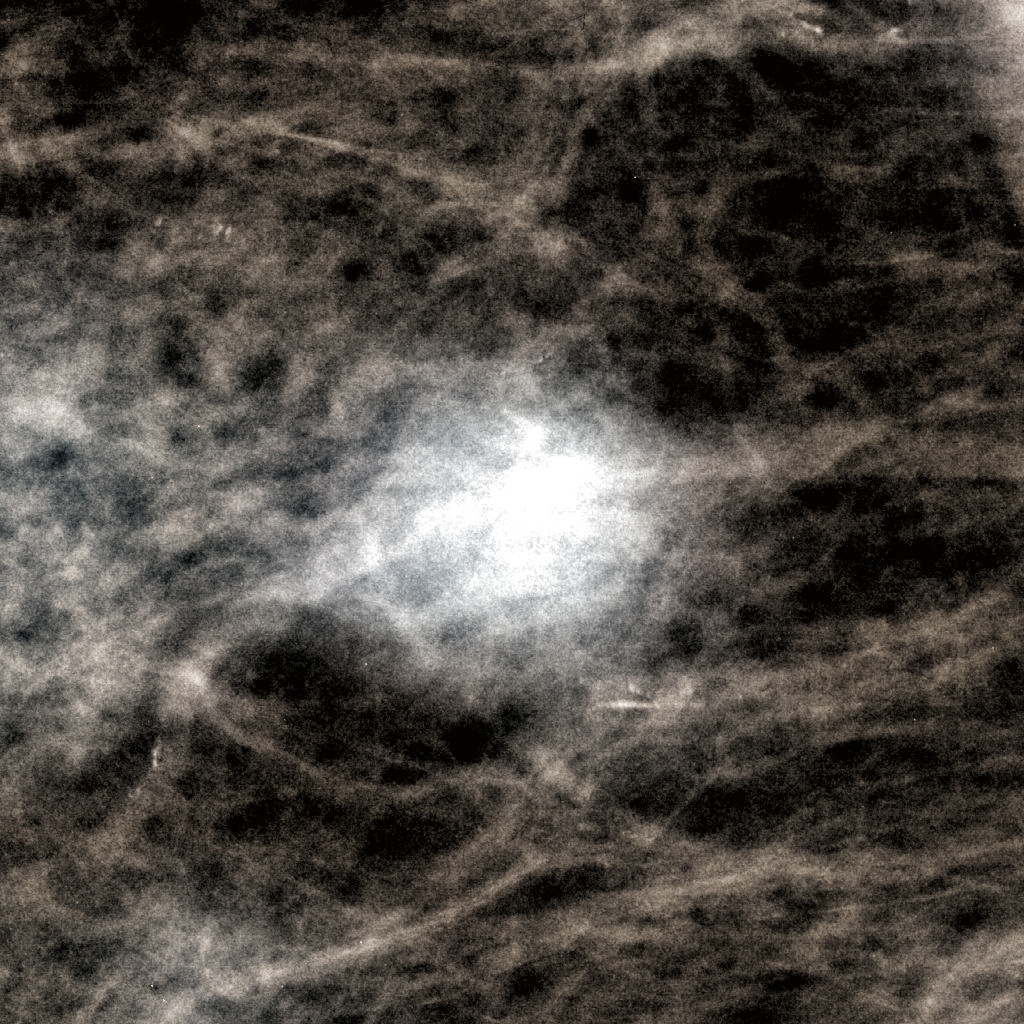tumor: (337, 347, 687, 677)
